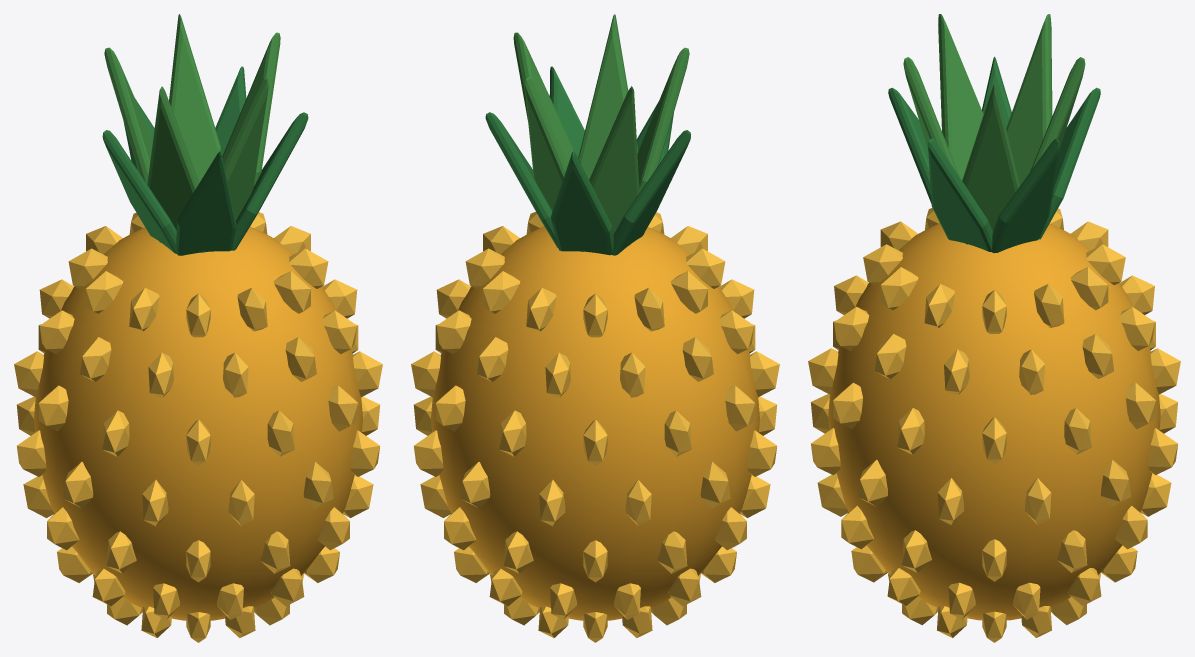
Rendered from pineapple.glb.
The picture shows the model from 3 angles, left to right: view 1: azimuth 30°, elevation 25°; view 2: azimuth 150°, elevation 25°; view 3: azimuth 270°, elevation 25°; orthographic projection.
Parts seen in each view (by area): view 1: pineapple; view 2: pineapple; view 3: pineapple.
Boxes of the visible parts, x1,y1,x2,y2 form: pineapple: (14, 14, 382, 642); pineapple: (411, 14, 779, 642); pineapple: (808, 14, 1180, 642).
Size of the model in its own units: 0.9418 by 1.57 by 0.9418.
